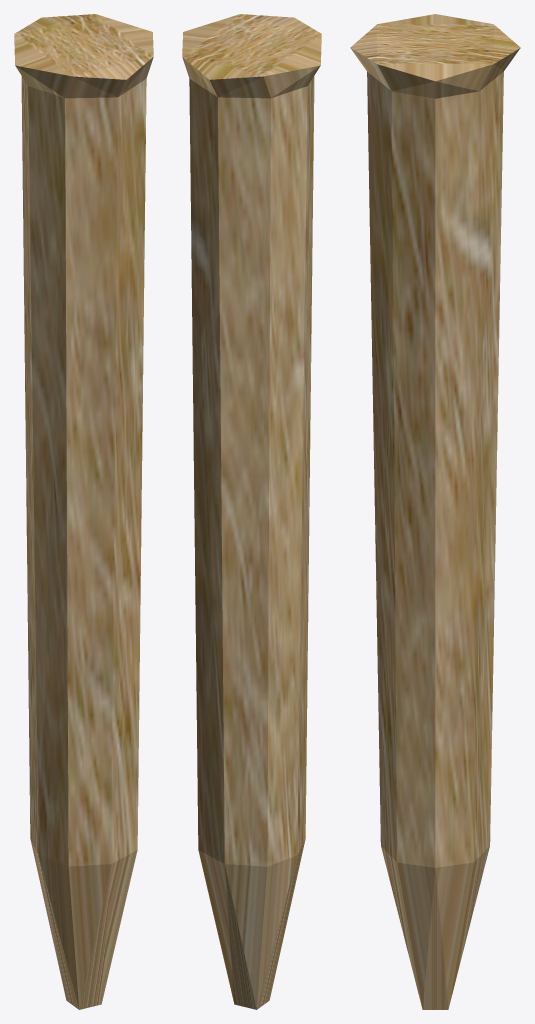
File: weapon.obj
3 views of the same model, side by side, from view 1: azimuth 30°, elevation 25°; view 2: azimuth 150°, elevation 25°; view 3: azimuth 270°, elevation 25° (orthographic).
Parts seen in each view (by area): view 1: Cube; view 2: Cube; view 3: Cube.
Boxes of the visible parts, bbox=[...] form: Cube: bbox=[14, 14, 153, 1009]; Cube: bbox=[182, 14, 321, 1009]; Cube: bbox=[350, 14, 520, 1009].
Size of the model in its own units: 0.3056 by 2.03 by 0.327.
1 material, 1 textured.
